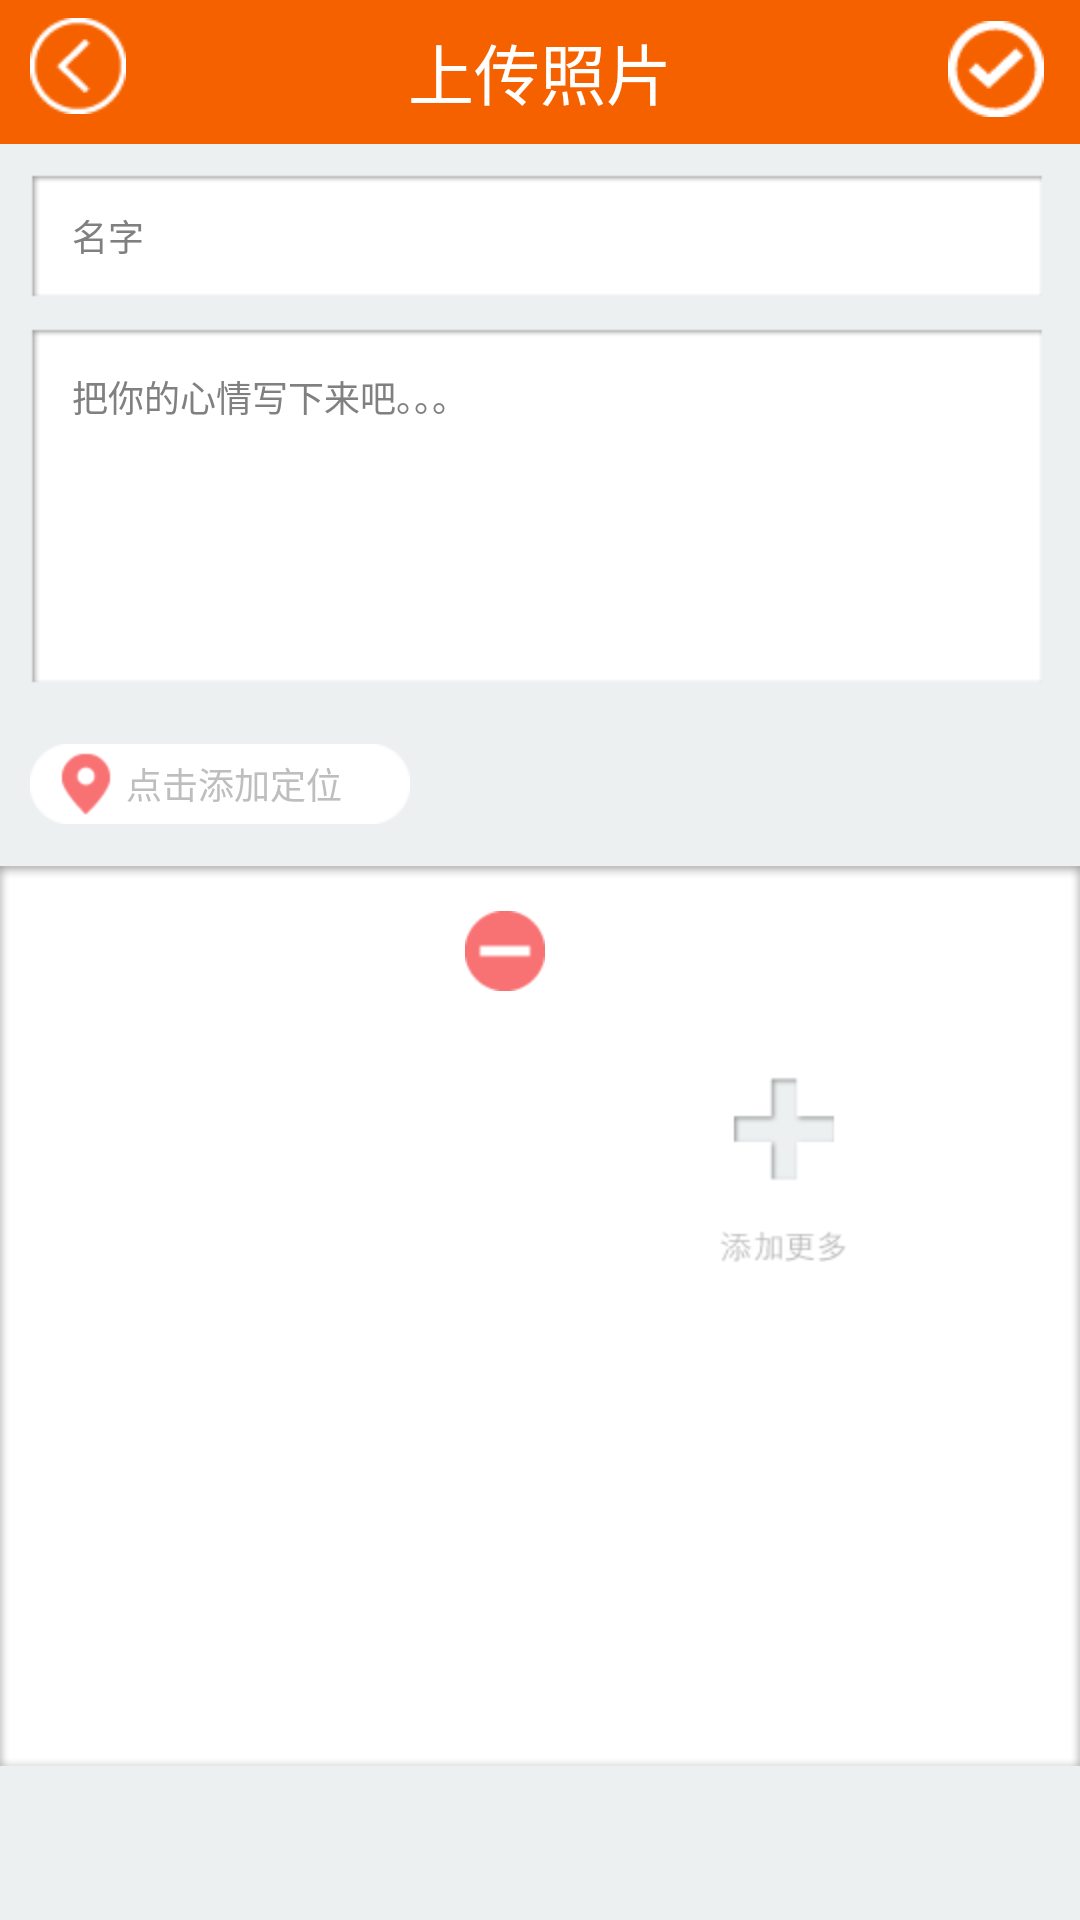

Icons on this 1080w x 1920h Android screen, each with its box as BBox(x1, y1, x2, y2):
sendphoto check: BBox(948, 21, 1044, 117)
sendphoto pic delete: BBox(465, 911, 545, 991)
title back: BBox(30, 18, 126, 114)
